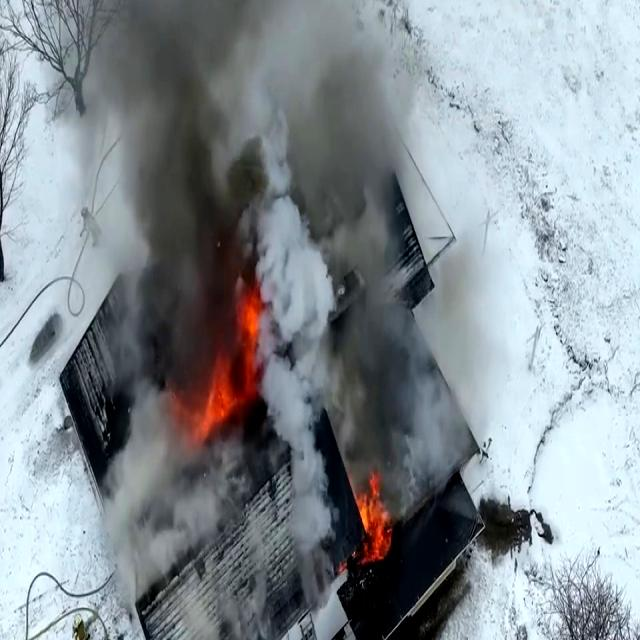fire: (160, 291, 252, 444), (340, 460, 395, 560)
smoke: (133, 0, 307, 161)
